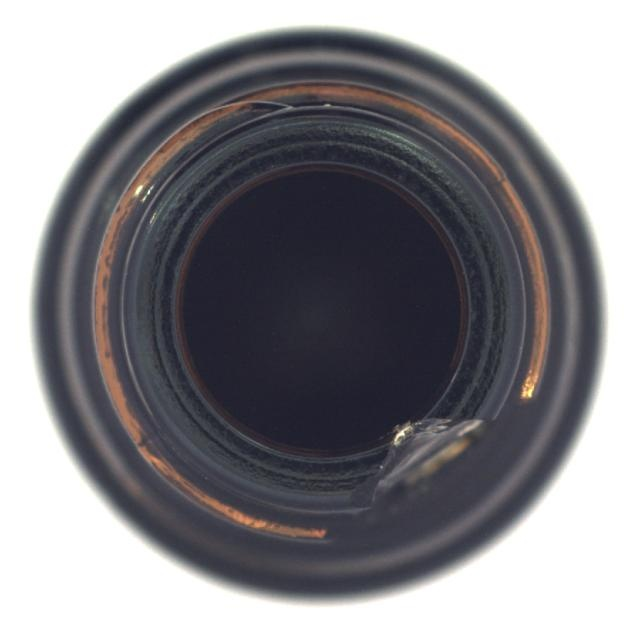bad-broken_small: (30, 27, 609, 607)
